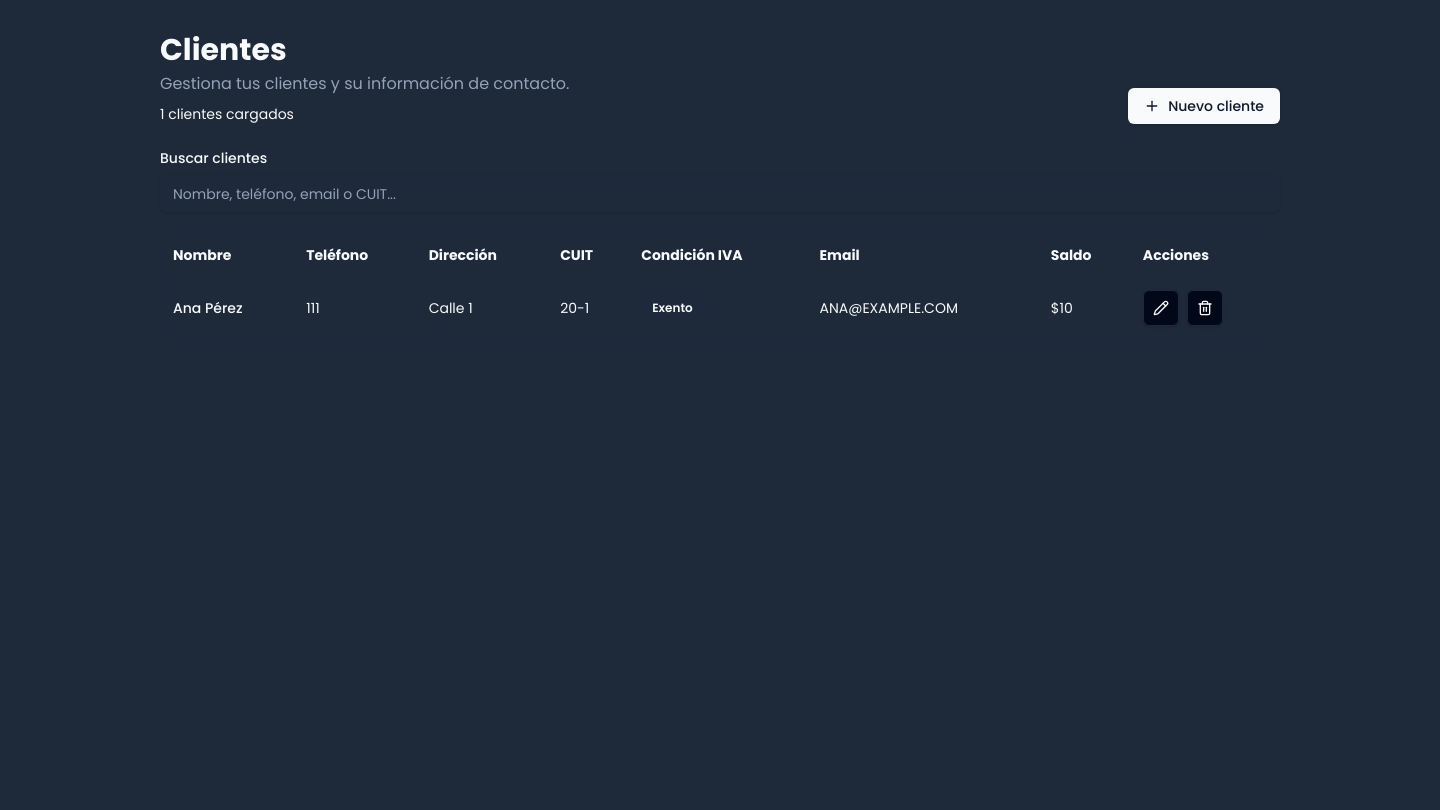
Test: clients page observable states and accessibility › uses an accessible confirmation dialog rather than window.confirm before deletion
Click the button named "eliminar ana pérez".
click(1205, 308)  # box [1187,290,1223,326]
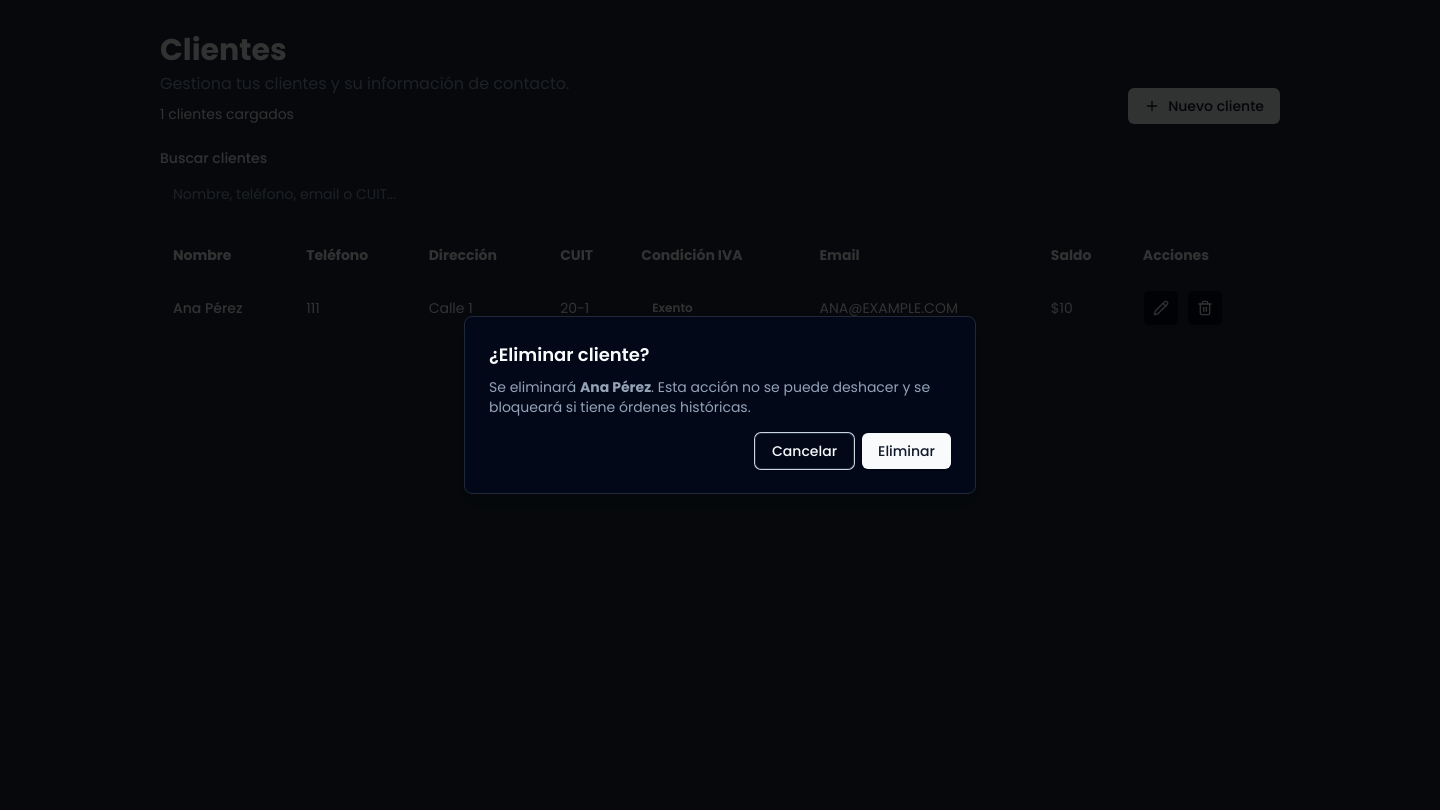
Expected: the dialog shows "Ana Pérez", [580,377,651,397]
Expected: the button "Cancelar" is shown, [755,433,854,469]
Expected: the button "Eliminar" is shown, [862,433,951,469]
